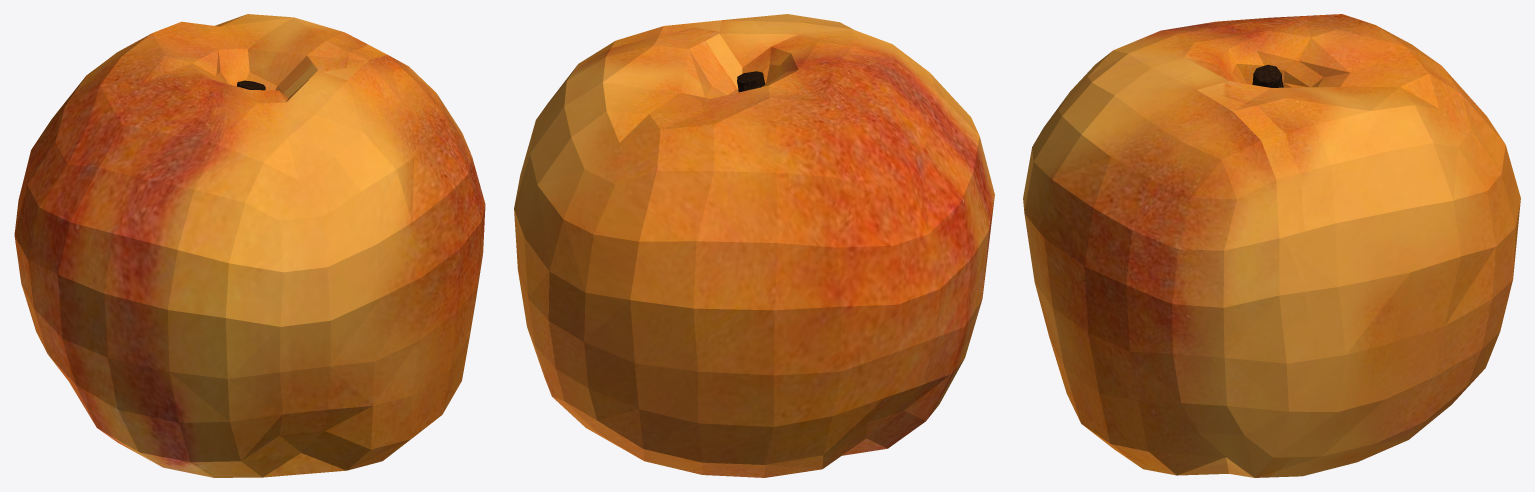
Rendered from apple.dae.
3 renders of one model, left to right at view 1: azimuth 30°, elevation 25°; view 2: azimuth 150°, elevation 25°; view 3: azimuth 270°, elevation 25°, orthographic. The views are drawn at different scales.
Visible parts, largest first — view 1: peach16; view 2: peach16; view 3: peach16.
Part boxes in pixels (x1,y1,x2,y2): peach16: (14,14,485,477); peach16: (514,14,994,477); peach16: (1023,14,1520,477).
Bounding box in the file's own units: 2.12 × 2.19 × 1.81.
Materials: 2 (1 with a texture image).
